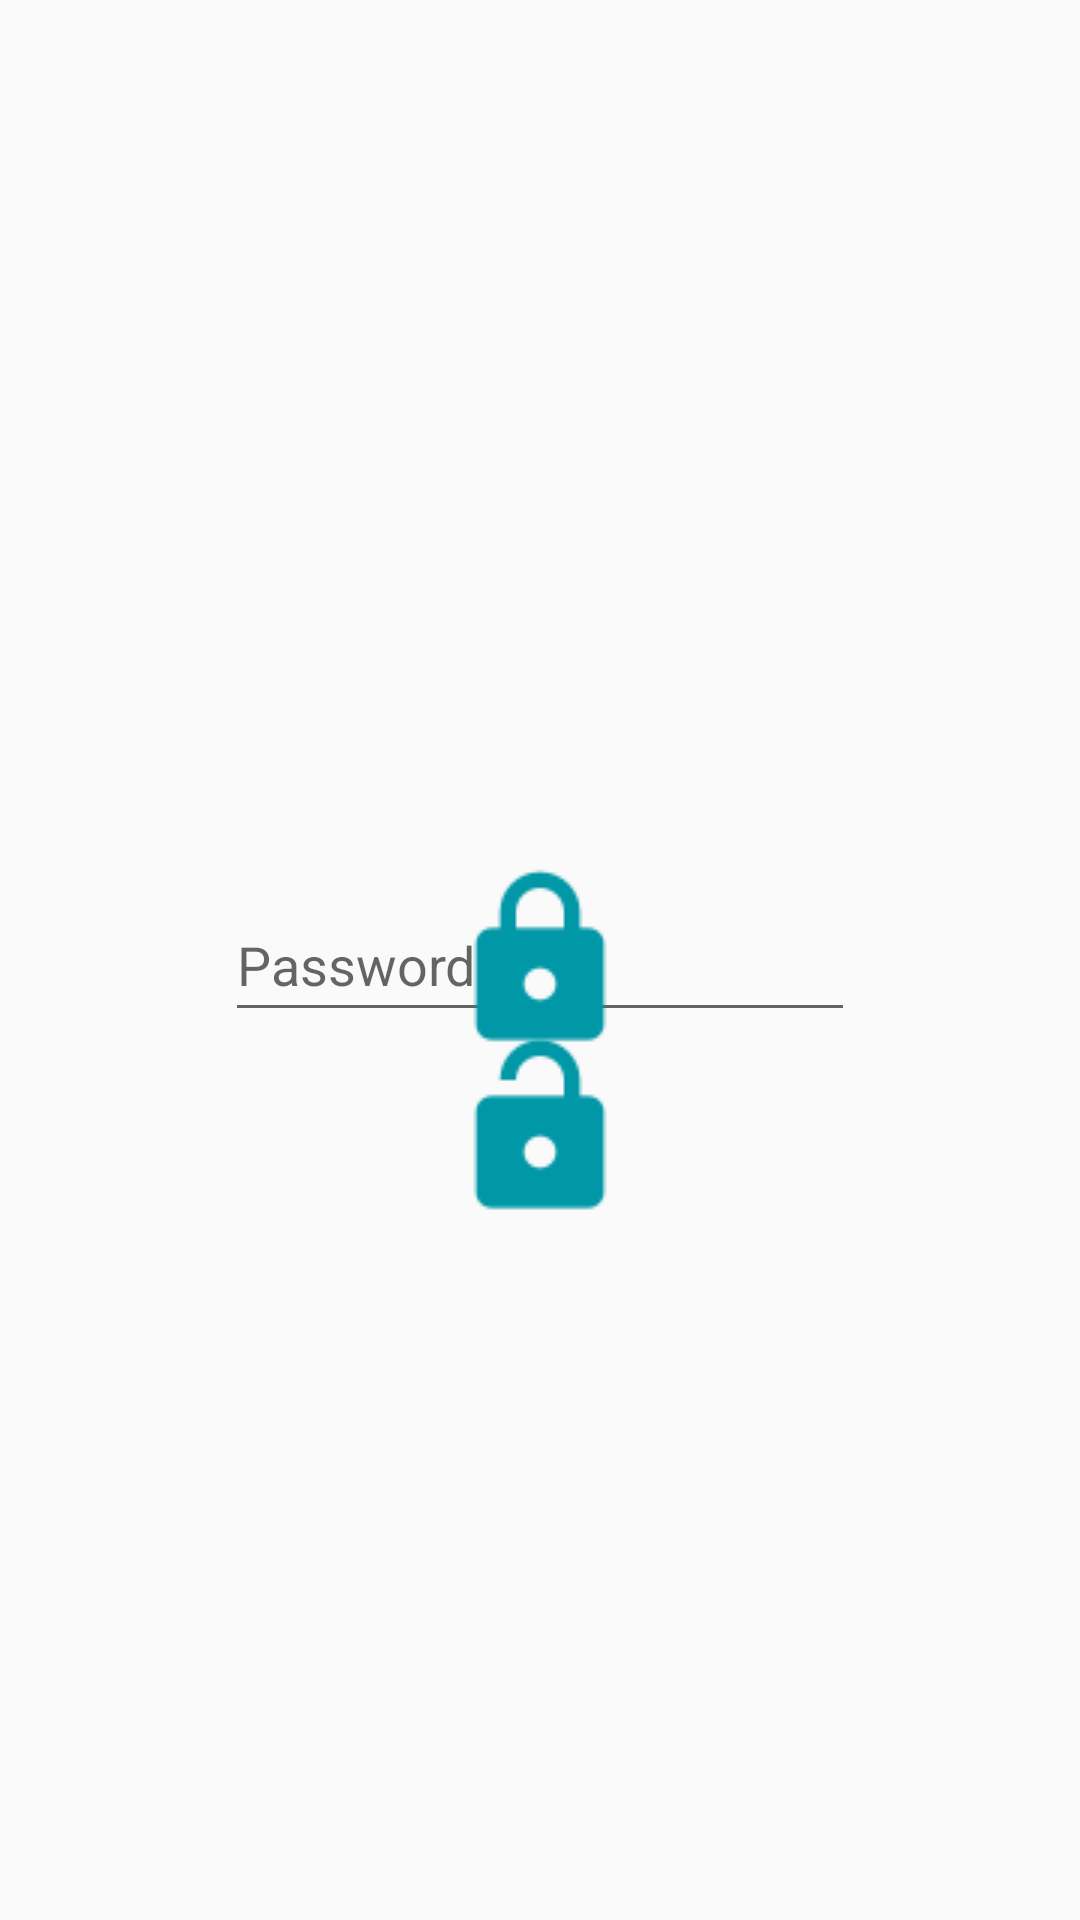

Icons on this 1080px x 1920px Android screen, each with the point to tap as (x,y):
smokescreen unlock: (540,1121)
